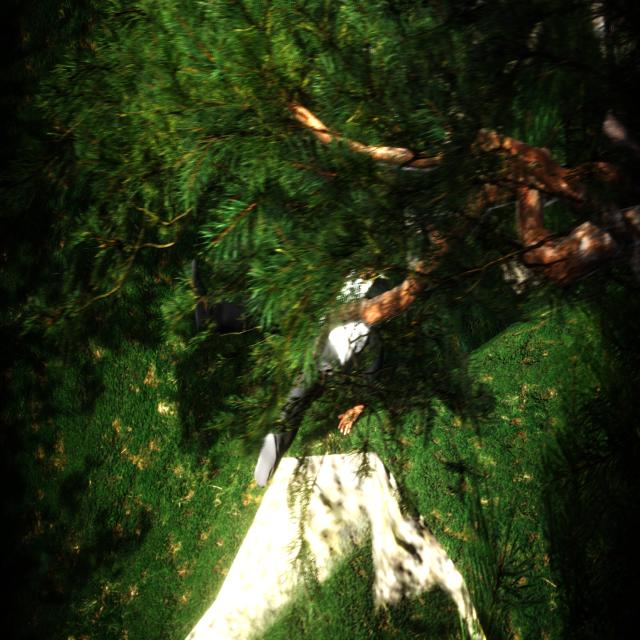Human: (173, 191, 386, 493)
